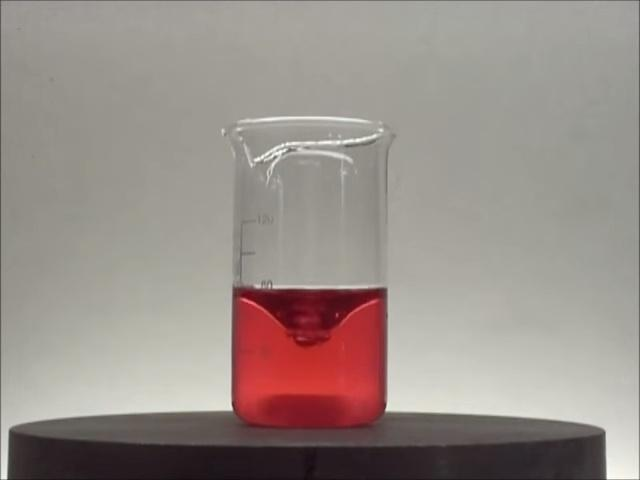Beaker: (217, 112, 398, 434)
